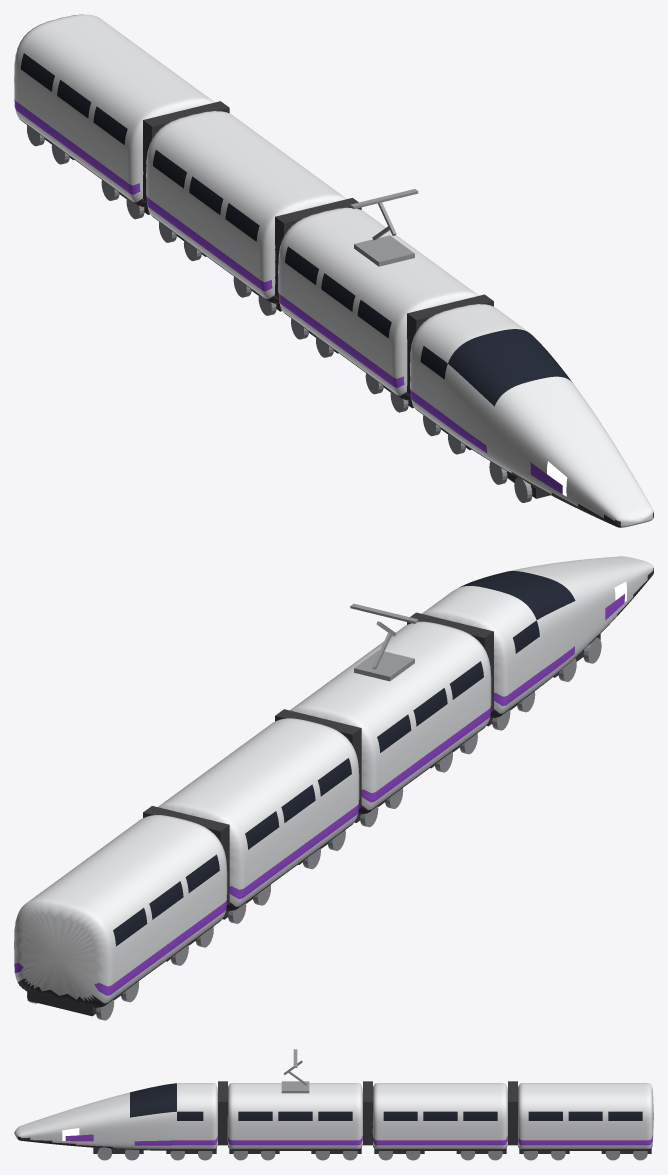
The model's file is train.glb.
3 views of the same model, one above another, from view 1: azimuth 30°, elevation 25°; view 2: azimuth 150°, elevation 25°; view 3: azimuth 270°, elevation 25° (orthographic). The views are drawn at different scales.
Visible parts, largest first — view 1: train_body, train_gear; view 2: train_body, train_gear; view 3: train_body, train_gear.
Boxes of the visible parts, x1,y1,x2,y2 form: train_body: [14, 14, 653, 527]; train_gear: [27, 101, 550, 502]; train_body: [14, 556, 653, 1007]; train_gear: [27, 603, 601, 1020]; train_body: [14, 1083, 653, 1150]; train_gear: [93, 1049, 651, 1160].
Bounding box in the file's own units: 1.34 × 2.24 × 14.03.
